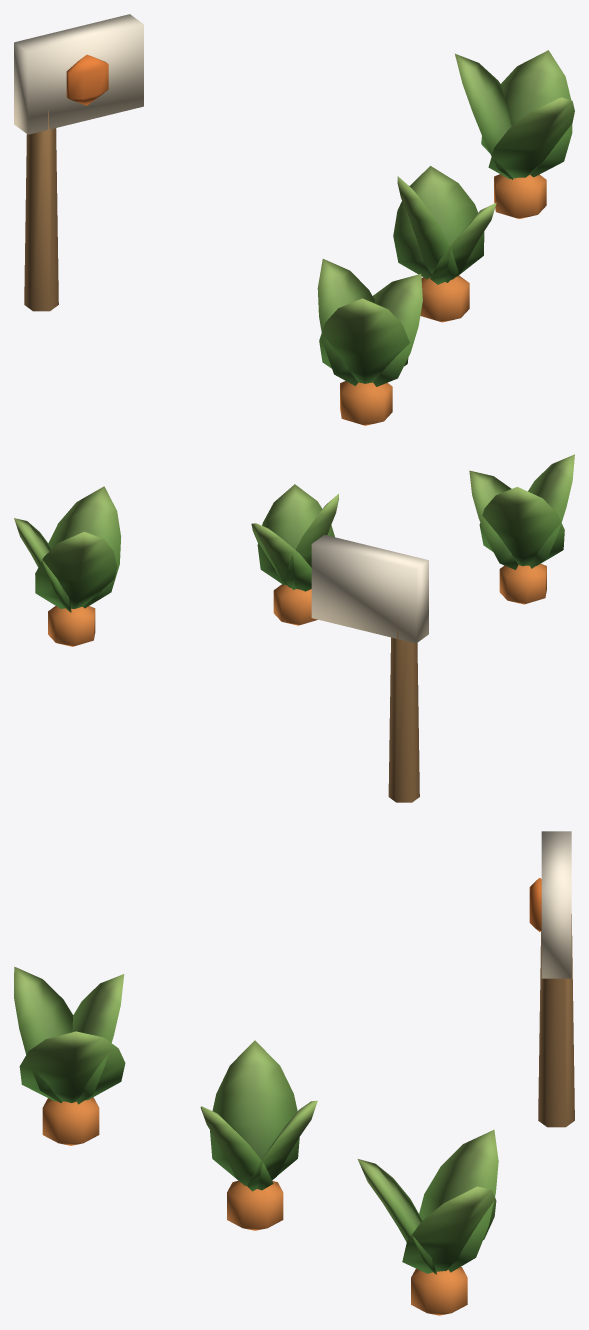
The model's file is prop-crop-carrot-young.glb.
The picture shows the model from 3 angles, top to bottom: view 1: azimuth 30°, elevation 25°; view 2: azimuth 150°, elevation 25°; view 3: azimuth 270°, elevation 25°; orthographic projection. The views are drawn at different scales.
Parts seen in each view (by area): view 1: leaf, body; view 2: leaf, body; view 3: leaf, body.
Boxes of the visible parts, <box> form: leaf: <box>317,50,574,386</box>; body: <box>14,14,546,425</box>; leaf: <box>14,454,574,612</box>; body: <box>48,534,546,802</box>; leaf: <box>14,966,498,1274</box>; body: <box>42,831,574,1315</box>.
Size of the model in its own units: 0.7207 by 0.3675 by 0.6701.
